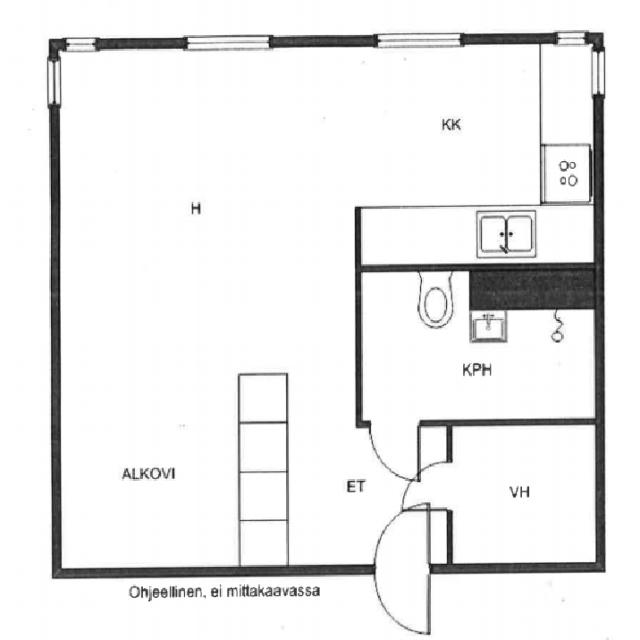door: (369, 506, 430, 634), (398, 466, 436, 512)
window: (182, 31, 272, 58), (374, 28, 466, 52), (45, 54, 64, 110), (590, 48, 608, 100), (62, 34, 102, 55), (551, 28, 590, 48)
zone: (60, 46, 360, 569), (358, 39, 596, 269), (356, 264, 602, 422), (445, 419, 599, 567)
